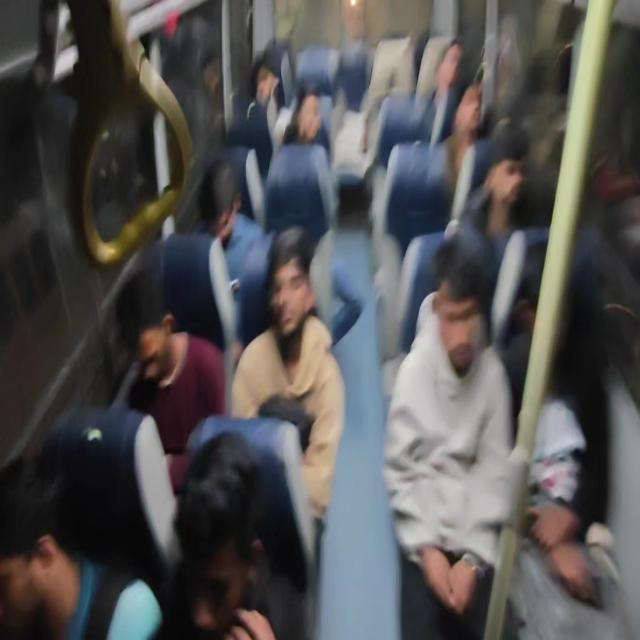person: (176, 431, 273, 640), (0, 447, 72, 640), (266, 217, 336, 357), (115, 262, 185, 400), (435, 227, 495, 374), (519, 244, 567, 344), (196, 156, 241, 254), (484, 120, 529, 210), (296, 82, 326, 152), (246, 48, 280, 108), (432, 30, 467, 87), (451, 78, 481, 134)
